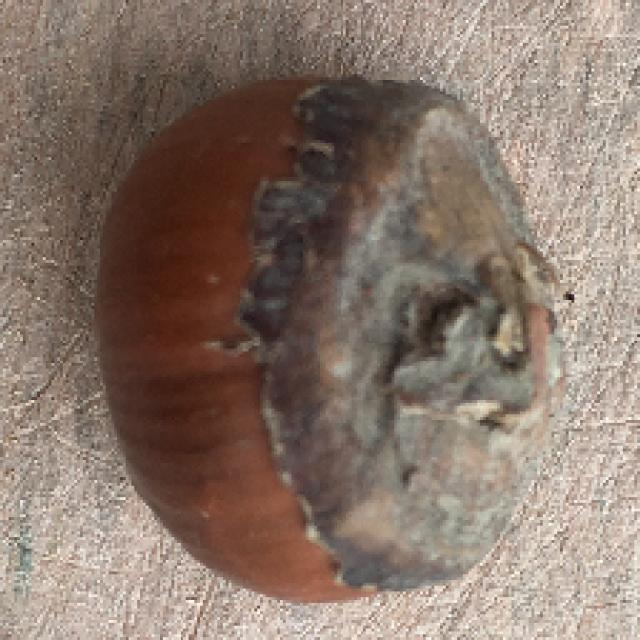DamagedHazelnut: (94, 82, 569, 602)
